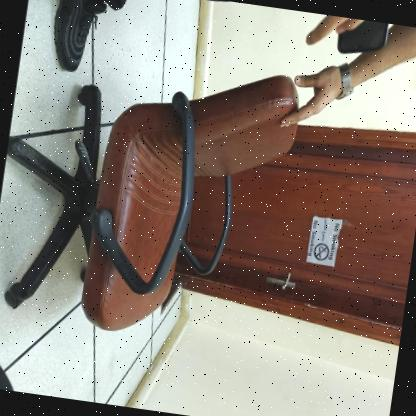chair: (0, 36, 322, 376)
